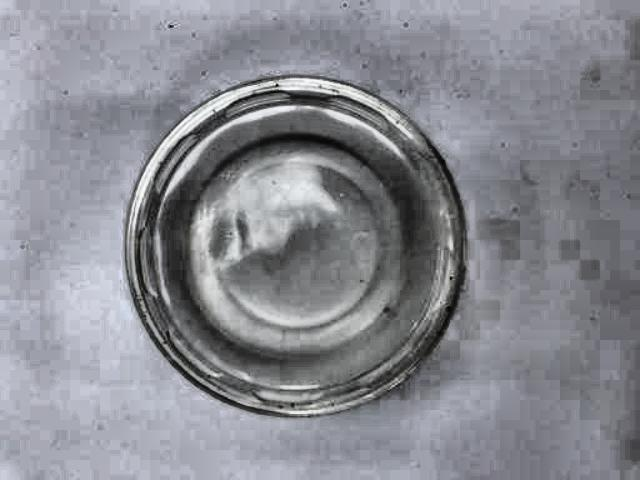Plastic: (125, 69, 484, 412)
